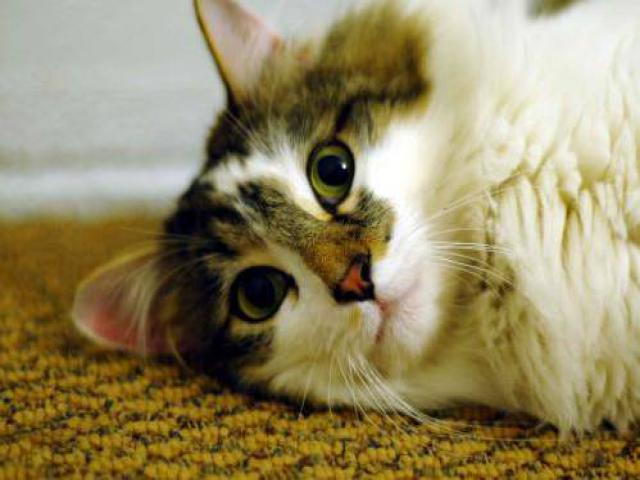cat: (74, 1, 640, 447)
